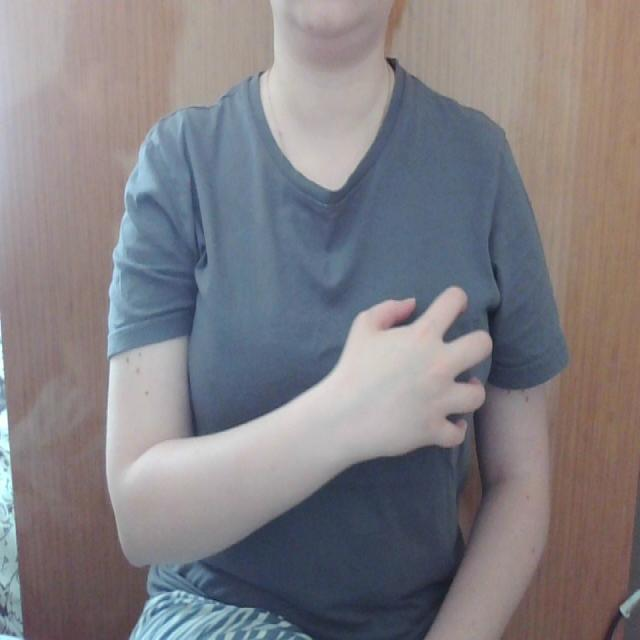Anne: (186, 255, 521, 484)
